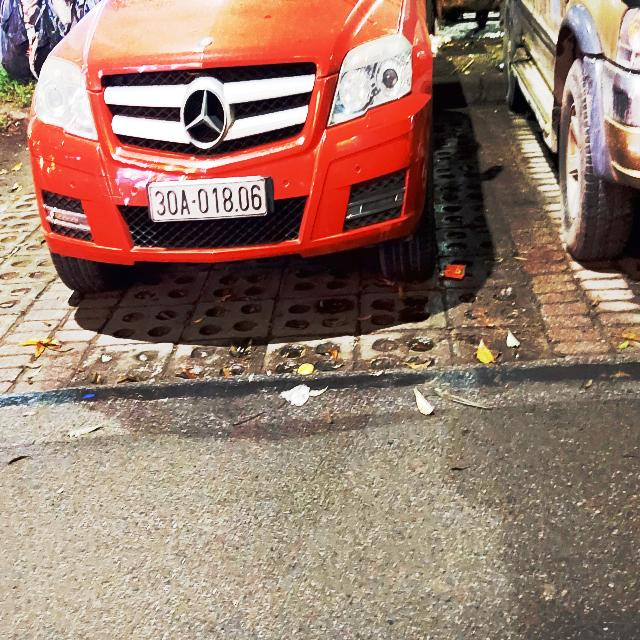license_plate: (144, 172, 272, 229)
